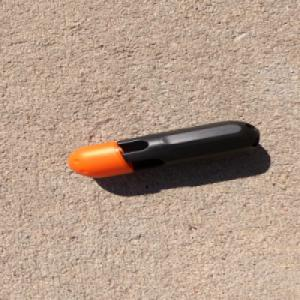PlasticPart: (66, 119, 261, 178)
